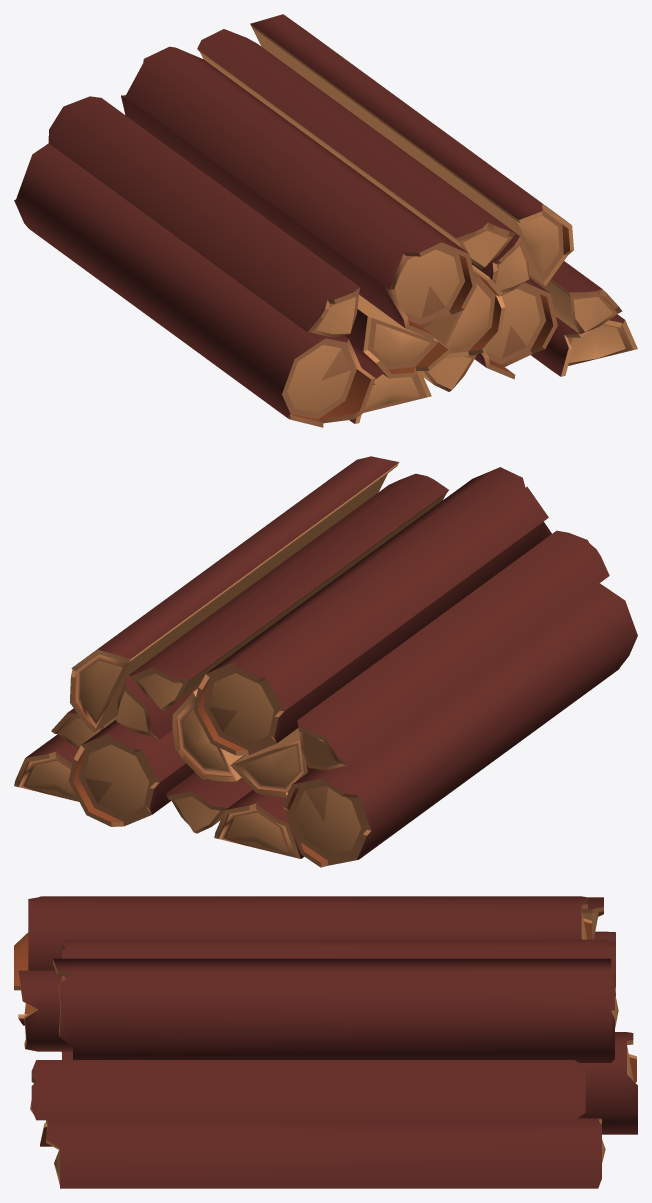
The model's file is Woodstack01.fbx.
The picture shows the model from 3 angles, top to bottom: view 1: azimuth 30°, elevation 25°; view 2: azimuth 150°, elevation 25°; view 3: azimuth 270°, elevation 25°; orthographic projection. The views are drawn at different scales.
Visible parts, largest first — view 1: woodstack01; view 2: woodstack01; view 3: woodstack01.
Boxes of the visible parts, left/top/right/bottom form: woodstack01: left=14, top=14, right=637, bottom=427; woodstack01: left=14, top=456, right=637, bottom=867; woodstack01: left=14, top=896, right=637, bottom=1188.
Bounding box in the file's own units: 223 × 100 × 322.
